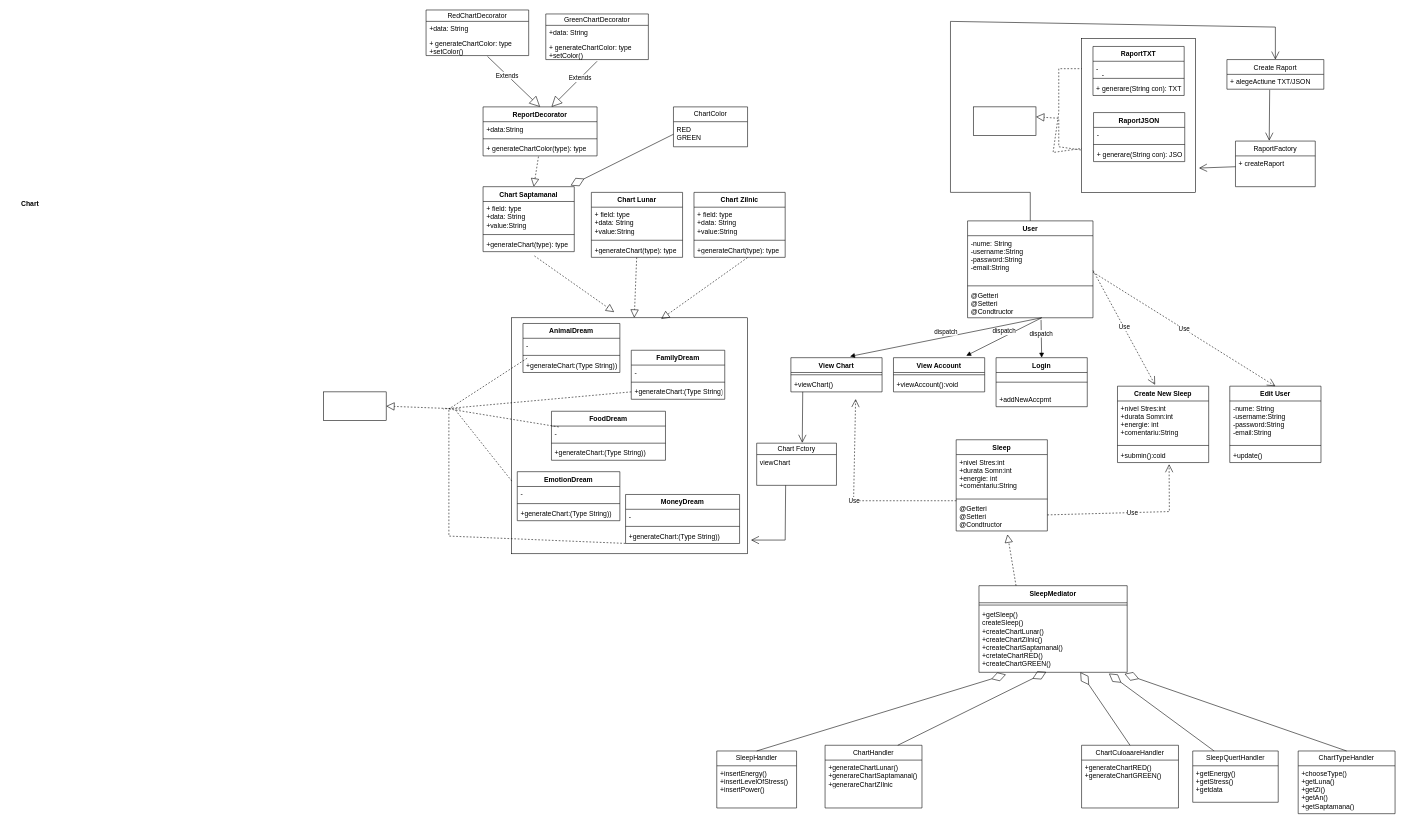
The diagram is 1405 pixels wide and 825 high, and some of its shapes have lost their labels. The centre of each missing label's shape, as x and y in pixels:
«interface» Chart: point 354,405
«interface» Raport: point 1004,120
